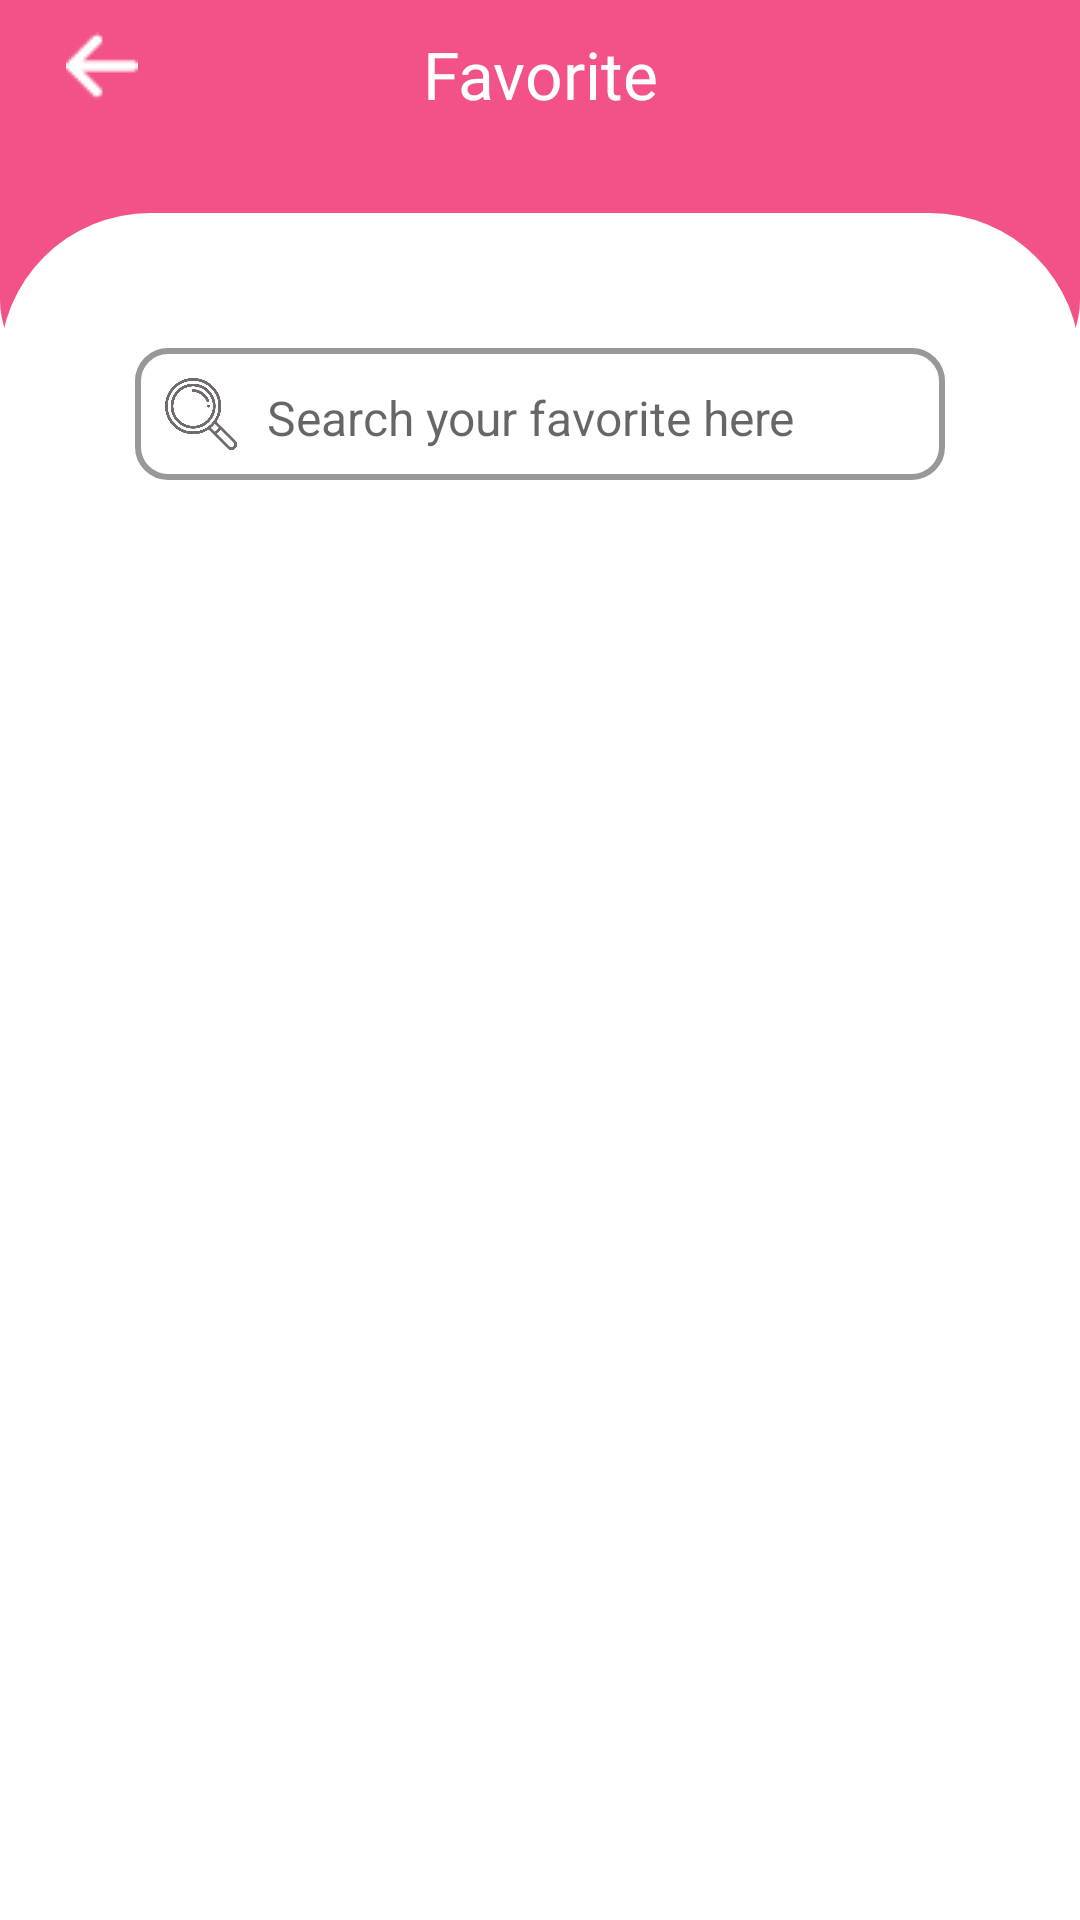

Icons on this 1080w x 1920h Android screen, each with its box as region(x1, y1, x2, y2):
arrow back: region(66, 33, 138, 98)
